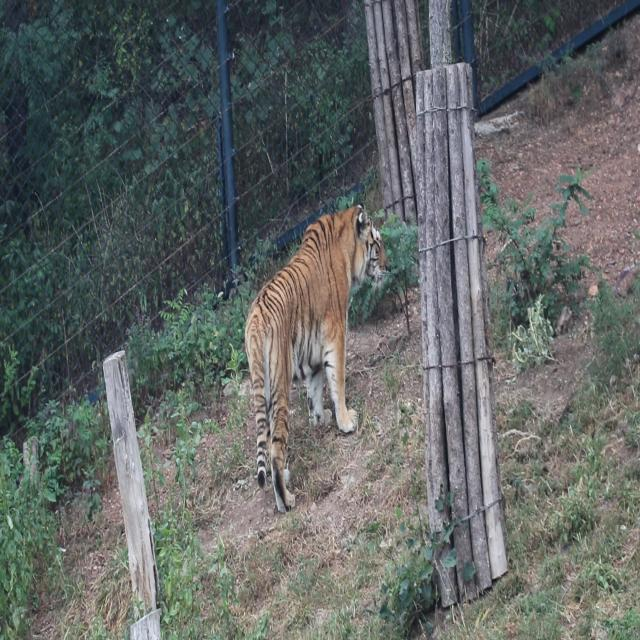Tiger: (237, 180, 428, 544)
